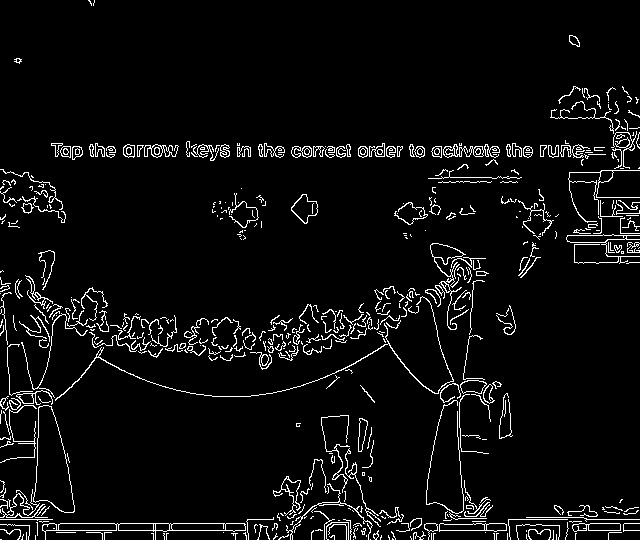down: (515, 206, 556, 244)
left: (283, 188, 324, 228), (222, 195, 264, 232), (388, 195, 428, 232)
